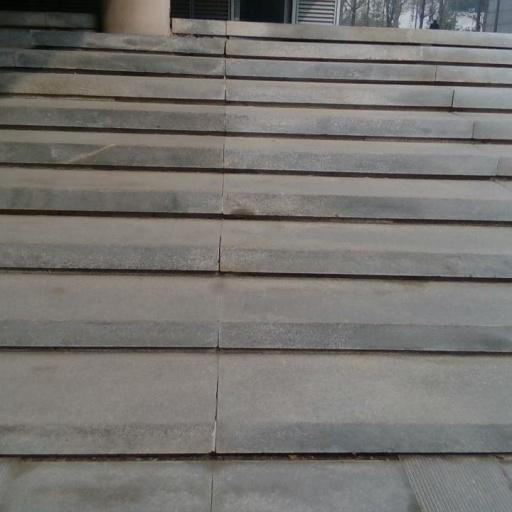stairs: (0, 20, 511, 511)
